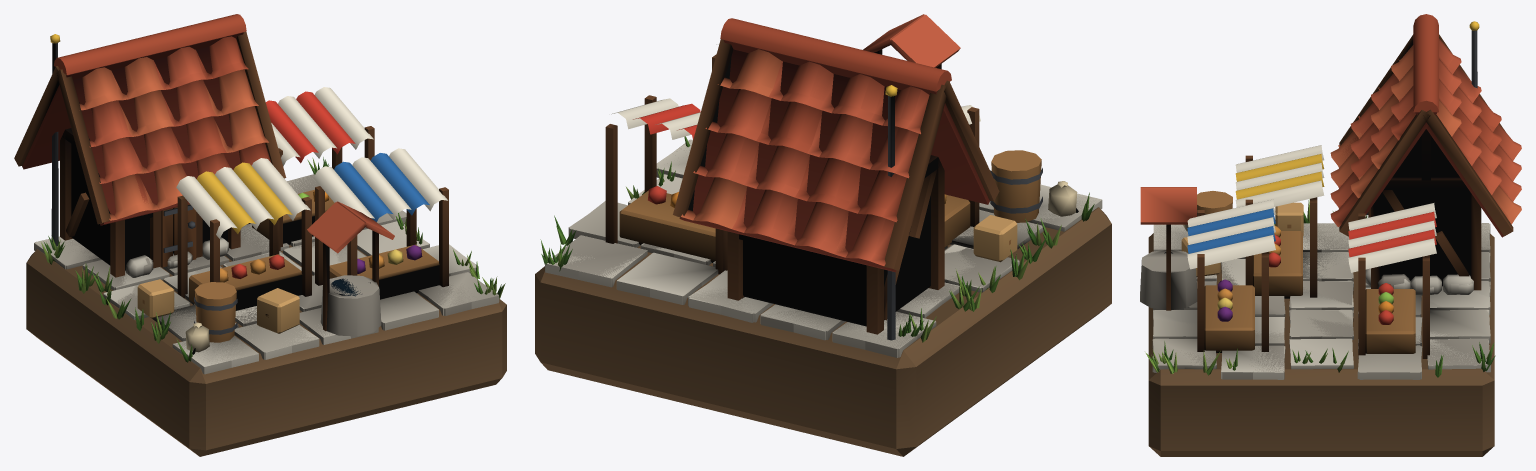
The model's file is market.glb.
3 views of the same model, side by side, from view 1: azimuth 30°, elevation 25°; view 2: azimuth 150°, elevation 25°; view 3: azimuth 270°, elevation 25° (orthographic). The views are drawn at different scales.
Parts seen in each view (by area): view 1: market_l1, market_l2, market_l3; view 2: market_l1, market_l2, market_l3; view 3: market_l1, market_l3, market_l2.
Part boxes in pixels (x1,y1,x2,y2): market_l1: (14, 14, 506, 456); market_l2: (34, 157, 505, 373); market_l3: (35, 137, 499, 374); market_l1: (535, 18, 1111, 456); market_l2: (540, 59, 1102, 357); market_l3: (547, 14, 1101, 357); market_l1: (1148, 14, 1521, 456); market_l3: (1140, 119, 1490, 379); market_l2: (1145, 130, 1495, 379).
Size of the model in its own units: 0.9457 by 0.822 by 0.9491.
